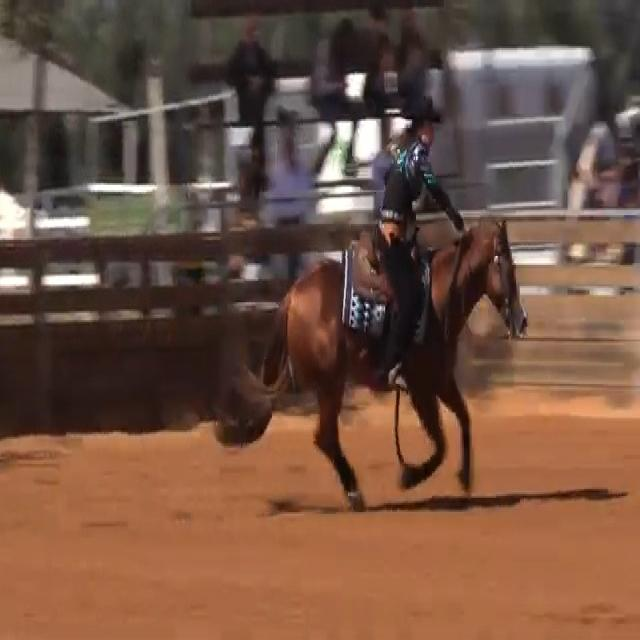horse: (257, 214, 527, 511)
